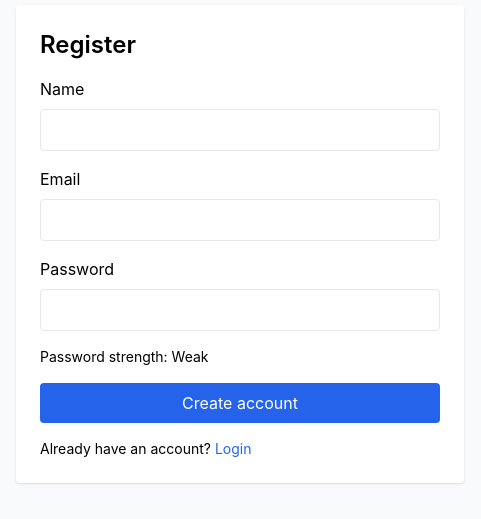
RegisterPage › shows API error message
Step 1. Type "New User" into the field labelled "Name" → (240, 130), box [40,109,440,151]
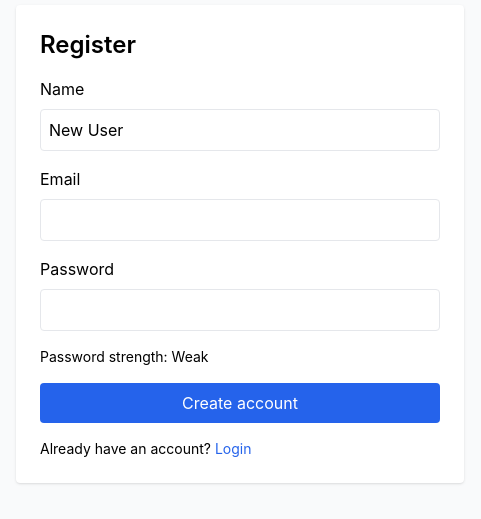
Step 2. Type "new@example.com" into the field labelled "Email" → (240, 220), box [40,199,440,241]
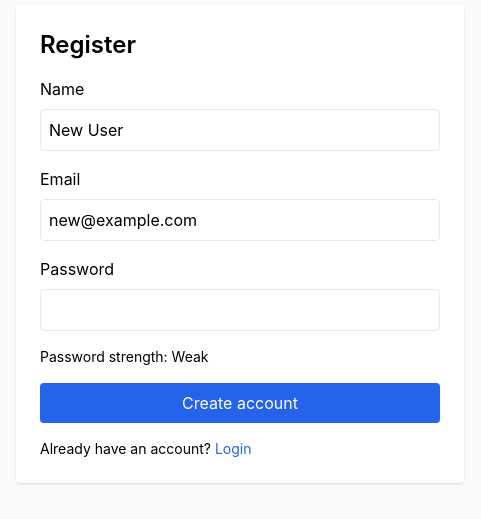
Step 3. Type "password123" into the password field labelled "Password" → (240, 310), box [40,289,440,331]
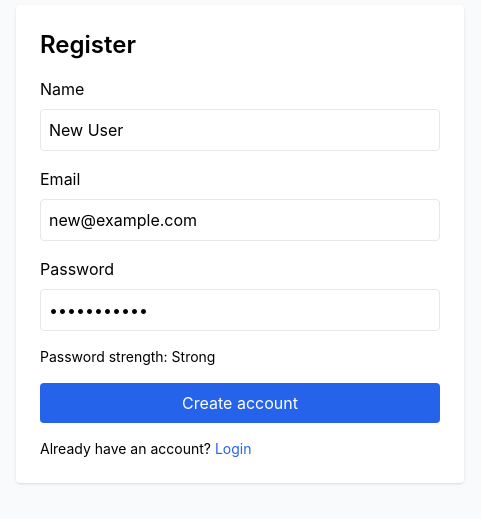
Step 4. Click the button "Create account" → (240, 403), box [40,383,440,423]
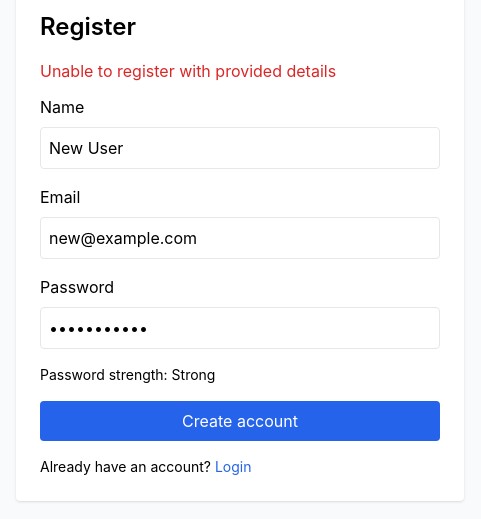
Expected: the message shows "Unable to register", [40,61,336,81]
